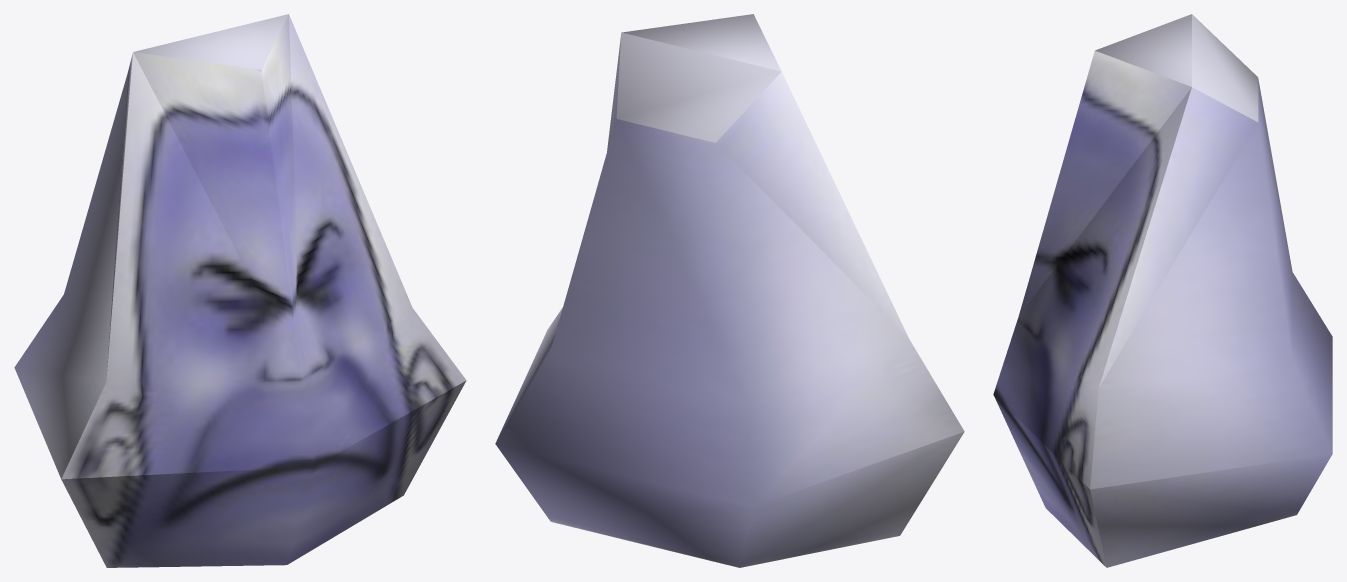
3 views of the same model, side by side, from view 1: azimuth 30°, elevation 25°; view 2: azimuth 150°, elevation 25°; view 3: azimuth 270°, elevation 25° (orthographic). The views are drawn at different scales.
Parts seen in each view (by area): view 1: bigwig; view 2: bigwig; view 3: bigwig.
Boxes of the visible parts, box(x1,y1,x2,y2) form: bigwig: box(14, 14, 466, 567); bigwig: box(495, 14, 964, 567); bigwig: box(993, 14, 1332, 567).
Size of the model in its own units: 1.46 by 1.64 by 1.1.
1 material, 1 textured.
